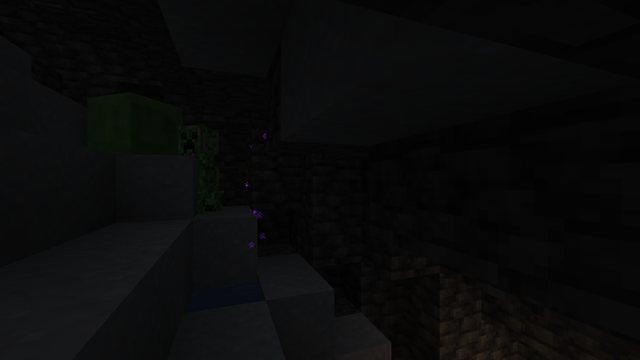creepers: (178, 119, 215, 212)
slimes: (87, 88, 175, 148)
